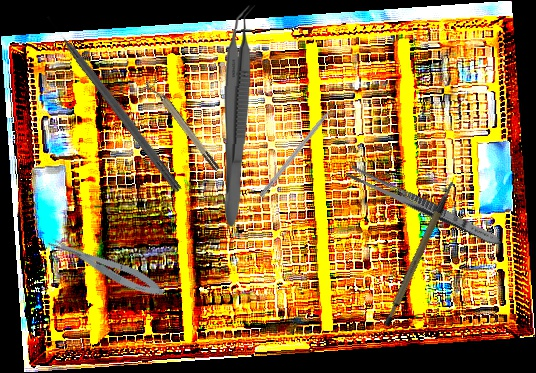Chopper: (258, 97, 347, 202)
Dressing Forceps: (343, 163, 505, 250)
Fixation Ring: (143, 75, 222, 176)
Hook Surgical: (43, 12, 185, 194)
Micro Scissor: (45, 229, 169, 304)
Scalpel Handle: (365, 179, 476, 329)
Tissue Forceps: (222, 2, 256, 228)
